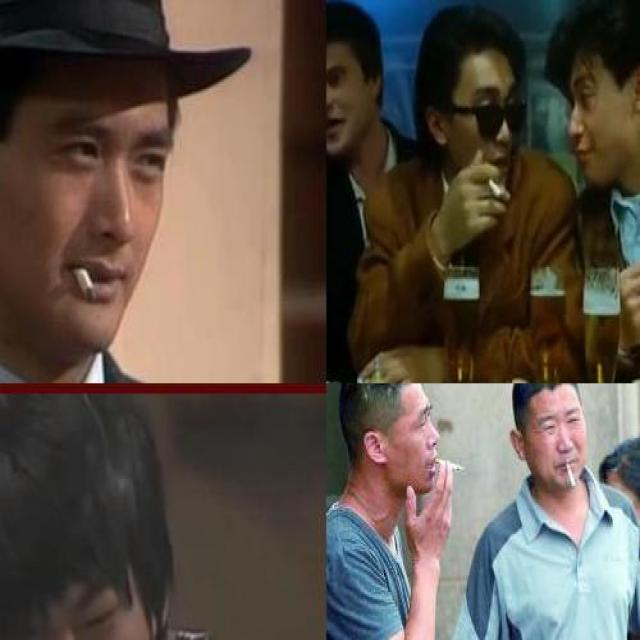cigarette: (66, 255, 100, 310), (433, 457, 463, 472), (564, 458, 576, 489), (488, 178, 503, 202)
